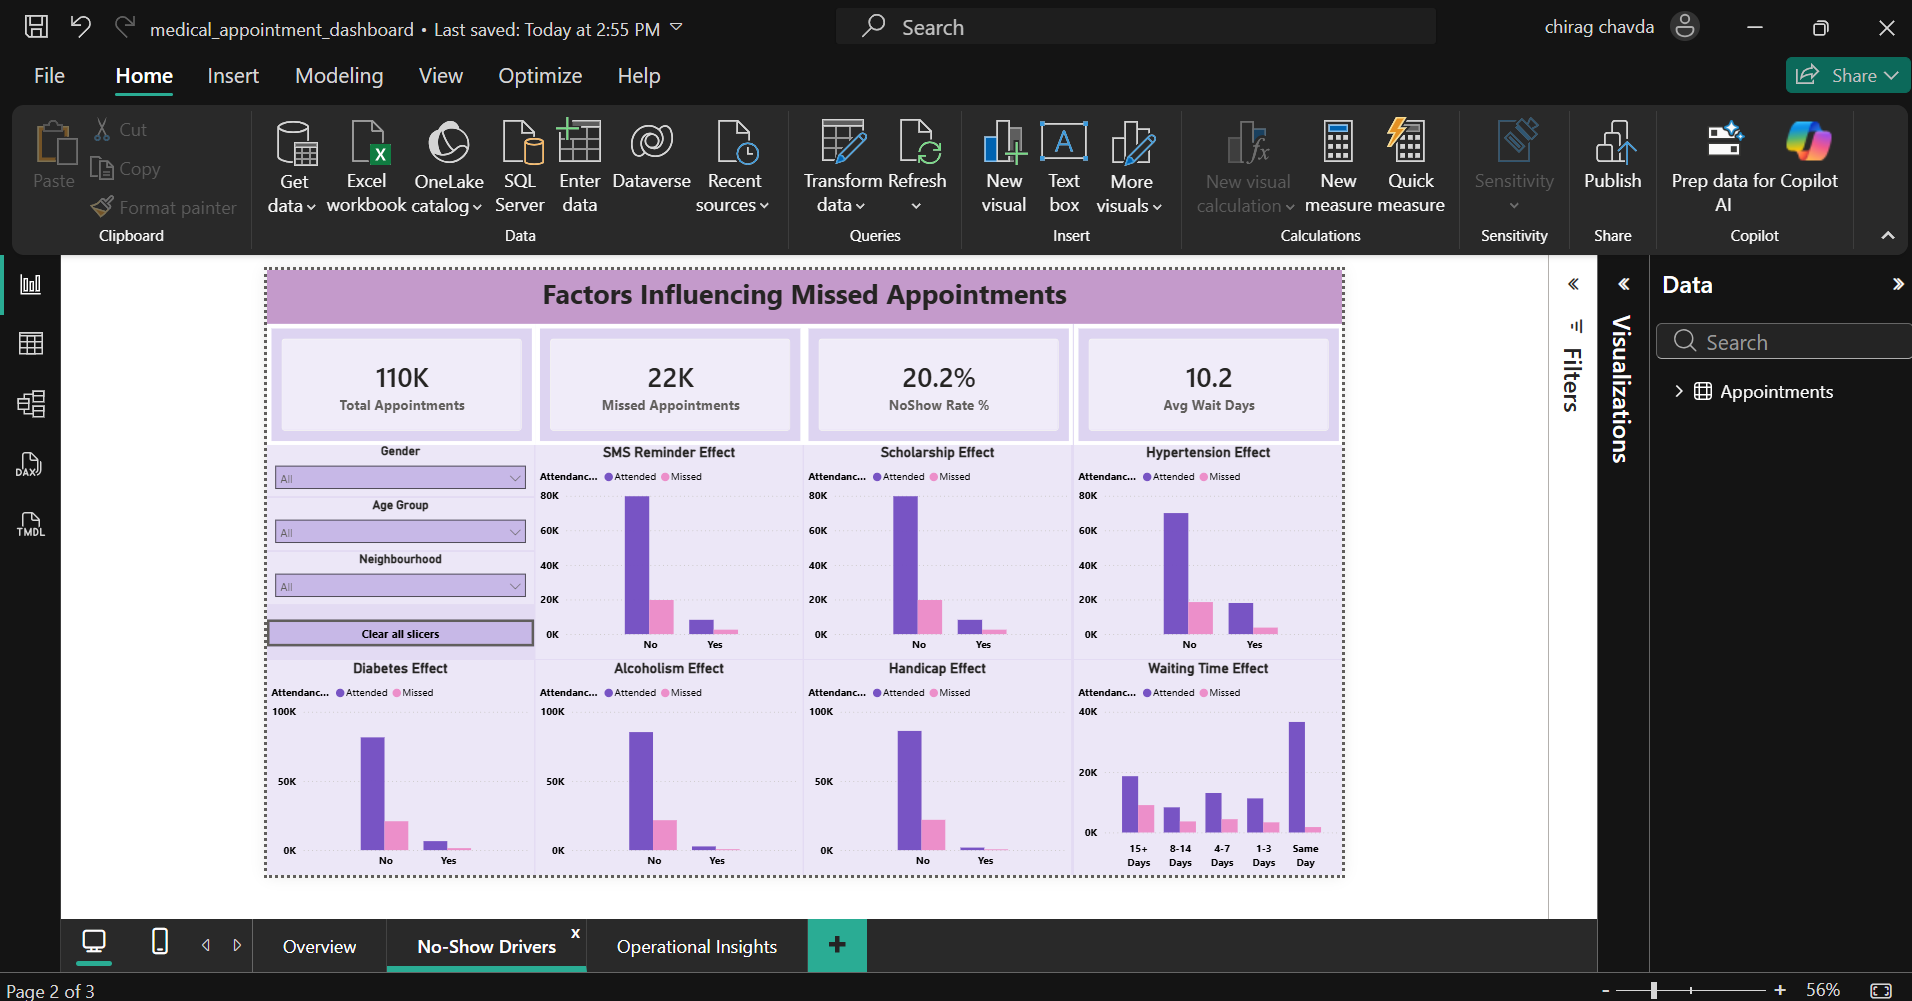

The dashboard page shown, as its layout file describes it:
{"tool":"powerbi","page":{"name":"No-Show Drivers","canvas":[1280,720],"ordinal":1},"visuals":[{"type":"textbox","box":[0,0,1280,64],"z":0},{"type":"cardVisual","fields":{"Data":["Appointments.Total Appointments"]},"box":[0,64,320,144],"z":1000},{"type":"cardVisual","fields":{"Data":["Appointments.Missed Appointments"]},"box":[320,64,320,144],"z":2000},{"type":"cardVisual","fields":{"Data":["Appointments.NoShow Rate %"]},"box":[640,64,320,144],"z":3000},{"type":"cardVisual","fields":{"Data":["Appointments.Avg Wait Days"]},"box":[960,64,320,144],"z":4000},{"type":"clusteredColumnChart","title":"SMS Reminder Effect","fields":{"Category":["Appointments.ScholarshipFlag"],"Y":["Appointments.Total Appointments"],"Series":["Appointments.AttendanceStatus"]},"box":[320,208,318,256],"z":5000},{"type":"clusteredColumnChart","title":"Scholarship Effect","fields":{"Category":["Appointments.ScholarshipFlag"],"Y":["Appointments.Total Appointments"],"Series":["Appointments.AttendanceStatus"]},"box":[640,208,318,256],"z":6000},{"type":"clusteredColumnChart","title":"Hypertension Effect","fields":{"Category":["Appointments.HypertensionFlag"],"Y":["Appointments.Total Appointments"],"Series":["Appointments.AttendanceStatus"]},"box":[960,208,320,256],"z":7000},{"type":"clusteredColumnChart","title":"Diabetes Effect","fields":{"Y":["Appointments.Total Appointments"],"Series":["Appointments.AttendanceStatus"],"Category":["Appointments.DiabetesFlag"]},"box":[0,464,318,256],"z":8000},{"type":"clusteredColumnChart","title":"Alcoholism Effect","fields":{"Y":["Appointments.Total Appointments"],"Series":["Appointments.AttendanceStatus"],"Category":["Appointments.AlcoholismFlag"]},"box":[320,464,318,256],"z":9000},{"type":"clusteredColumnChart","title":"Handicap Effect","fields":{"Y":["Appointments.Total Appointments"],"Series":["Appointments.AttendanceStatus"],"Category":["Appointments.HandicapFlag"]},"box":[640,464,318,256],"z":10000},{"type":"clusteredColumnChart","title":"Waiting Time Effect","fields":{"Y":["Appointments.Total Appointments"],"Series":["Appointments.AttendanceStatus"],"Category":["Appointments.WaitBucket"]},"box":[960,464,320,256],"z":11000},{"type":"slicer","title":"Gender","fields":{"Values":["Appointments.Gender"]},"box":[0,208,318,62],"z":12000},{"type":"slicer","title":"Age Group","fields":{"Values":["Appointments.AgeGroup"]},"box":[0,272,318,62],"z":13000},{"type":"slicer","title":"Neighbourhood","fields":{"Values":["Appointments.Neighbourhood"]},"box":[0,336,318,62],"z":14000},{"type":"actionButton","box":[0,416,318,32],"z":15000}]}

Visuals, with their boxes on the page's 1280x720 design canvas (x1, y1, x2, y2). These are canvas units, not pixel positions in the 1912x1001 screenshot, which may show the page scaled, cropped or inside an application window:
textbox: 0/0/1280/64
cardVisual - Appointments.Total Appointments: 0/64/320/208
cardVisual - Appointments.Missed Appointments: 320/64/640/208
cardVisual - Appointments.NoShow Rate %: 640/64/960/208
cardVisual - Appointments.Avg Wait Days: 960/64/1280/208
"SMS Reminder Effect" clusteredColumnChart: 320/208/638/464
"Scholarship Effect" clusteredColumnChart: 640/208/958/464
"Hypertension Effect" clusteredColumnChart: 960/208/1280/464
"Diabetes Effect" clusteredColumnChart: 0/464/318/720
"Alcoholism Effect" clusteredColumnChart: 320/464/638/720
"Handicap Effect" clusteredColumnChart: 640/464/958/720
"Waiting Time Effect" clusteredColumnChart: 960/464/1280/720
"Gender" slicer: 0/208/318/270
"Age Group" slicer: 0/272/318/334
"Neighbourhood" slicer: 0/336/318/398
actionButton: 0/416/318/448
